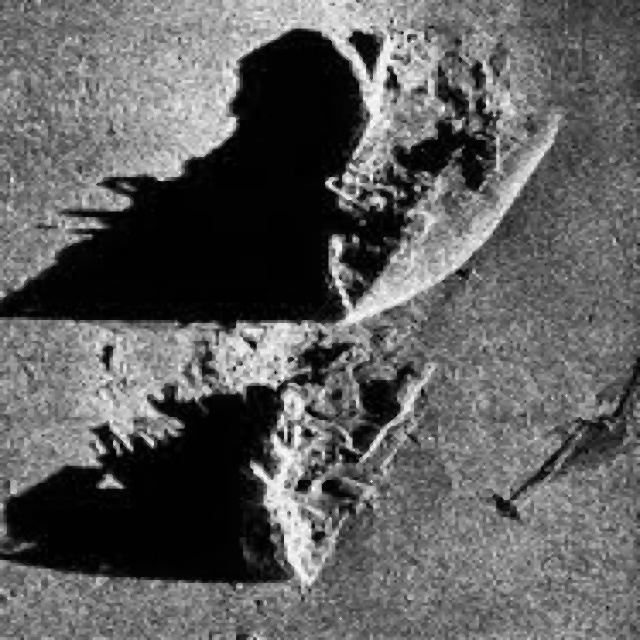Ship: (229, 11, 567, 602)
